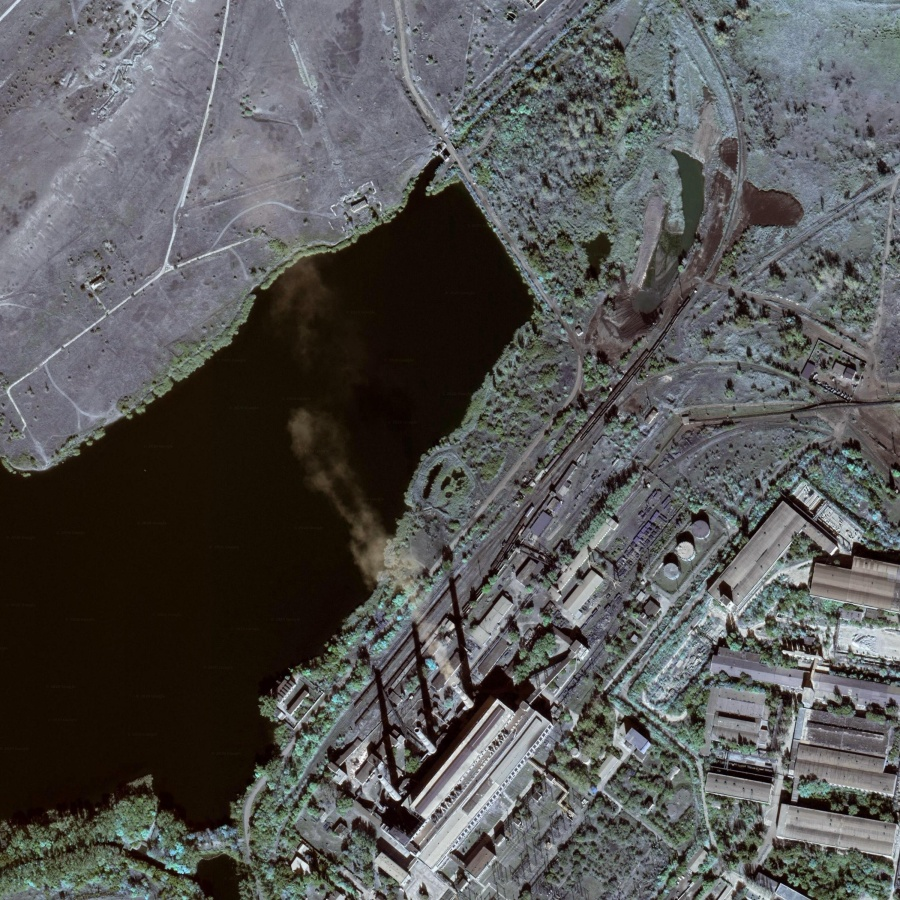PowerPlant: (337, 497, 702, 854)
